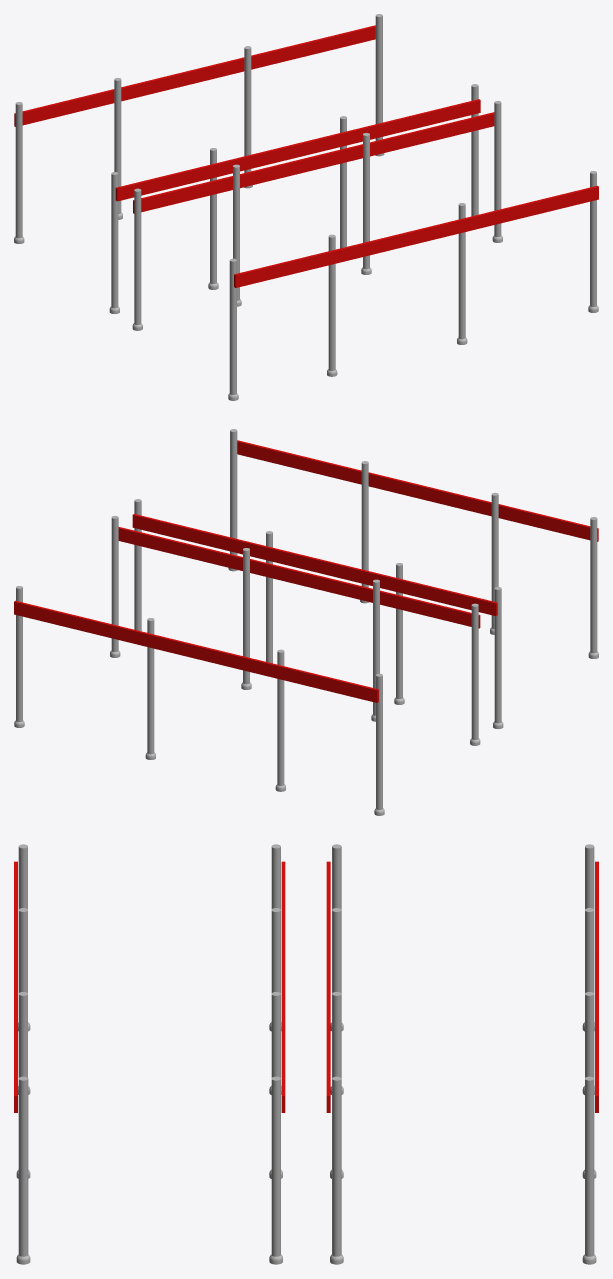
Rendered from vezneönü.fbx.
3 views of the same model, one above another, from view 1: azimuth 30°, elevation 25°; view 2: azimuth 150°, elevation 25°; view 3: azimuth 270°, elevation 25° (orthographic). The views are drawn at different scales.
Parts seen in each view (by area): view 1: Cube.042, Cube.044, Cube.045, Cube.043, Cylinder.058, Cylinder.056, Cylinder.057, Cylinder.055, Cylinder.045, Cylinder.050, Cylinder.053, Cylinder.046 (+8 smaller); view 2: Cube.045, Cube.043, Cube.042, Cube.044, Cylinder.055, Cylinder.057, Cylinder.058, Cylinder.048, Cylinder.044, Cylinder.052, Cylinder.056, Cylinder.047 (+8 smaller); view 3: Cylinder.046, Cylinder.047, Cylinder.050, Cylinder.044, Cube.044, Cube.043, Cube.042, Cube.045, Cylinder.053, Cylinder.052, Cylinder.054, Cylinder.049 (+8 smaller).
Part boxes in pixels (left/top/right/bottom): Cube.042: left=234, top=185, right=598, bottom=287; Cube.044: left=115, top=99, right=480, bottom=201; Cube.045: left=14, top=25, right=375, bottom=126; Cube.043: left=133, top=112, right=494, bottom=213; Cylinder.058: left=132, top=188, right=142, bottom=330; Cylinder.056: left=14, top=102, right=24, bottom=243; Cylinder.057: left=228, top=258, right=238, bottom=400; Cylinder.055: left=109, top=172, right=119, bottom=313; Cylinder.045: left=327, top=234, right=337, bottom=376; Cylinder.050: left=492, top=101, right=502, bottom=242; Cylinder.053: left=457, top=203, right=467, bottom=344; Cylinder.046: left=588, top=171, right=598, bottom=312; Cube.045: left=14, top=600, right=378, bottom=702; Cube.043: left=132, top=514, right=497, bottom=616; Cube.042: left=237, top=440, right=598, bottom=541; Cube.044: left=118, top=527, right=480, bottom=628; Cylinder.055: left=470, top=603, right=480, bottom=745; Cylinder.057: left=588, top=517, right=598, bottom=658; Cylinder.058: left=493, top=587, right=503, bottom=729; Cylinder.048: left=275, top=649, right=285, bottom=791; Cylinder.044: left=110, top=515, right=120, bottom=657; Cylinder.052: left=145, top=618, right=155, bottom=759; Cylinder.056: left=374, top=673, right=384, bottom=815; Cylinder.047: left=14, top=586, right=24, bottom=727; Cylinder.046: left=16, top=1076, right=30, bottom=1264; Cylinder.047: left=582, top=1076, right=596, bottom=1264; Cylinder.050: left=269, top=1076, right=282, bottom=1264; Cylinder.044: left=330, top=1076, right=343, bottom=1264; Cube.044: left=326, top=861, right=330, bottom=1112; Cube.043: left=281, top=861, right=285, bottom=1112; Cube.042: left=14, top=861, right=17, bottom=1112; Cube.045: left=595, top=861, right=598, bottom=1112; Cylinder.053: left=16, top=992, right=30, bottom=1178; Cylinder.052: left=582, top=992, right=596, bottom=1178; Cylinder.054: left=269, top=992, right=282, bottom=1178; Cylinder.049: left=330, top=992, right=343, bottom=1178.
Bounding box in the file's own units: 341 × 122 × 354.
